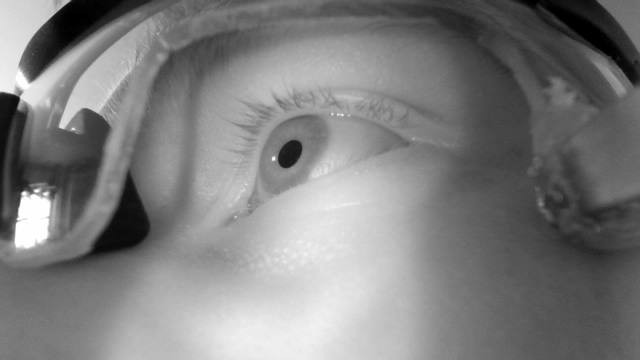pupil: (277, 139, 303, 169)
